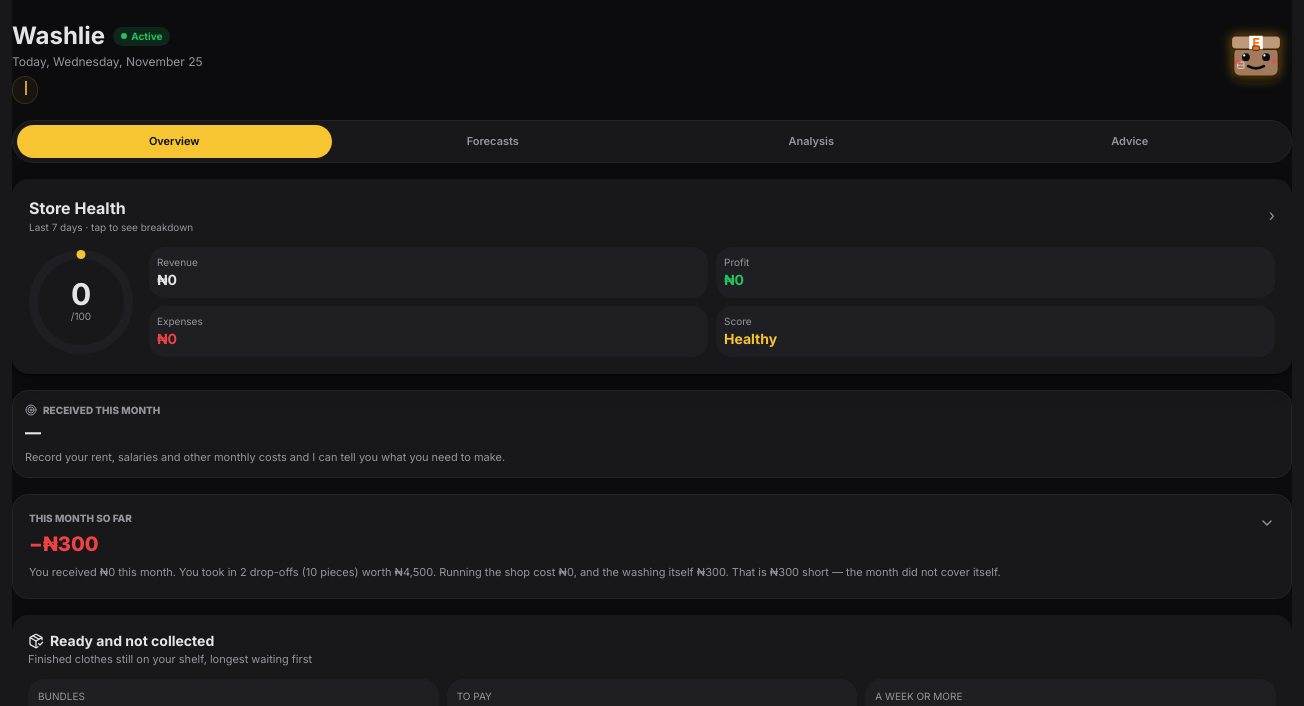
it: the Flow page › moves the bars when clothes are received, before any money, and colours what is paid
Later steps or results of the test are not shown.
Click the button "Analysis" at (811, 141), box x1=654 y1=125 x2=968 y2=158
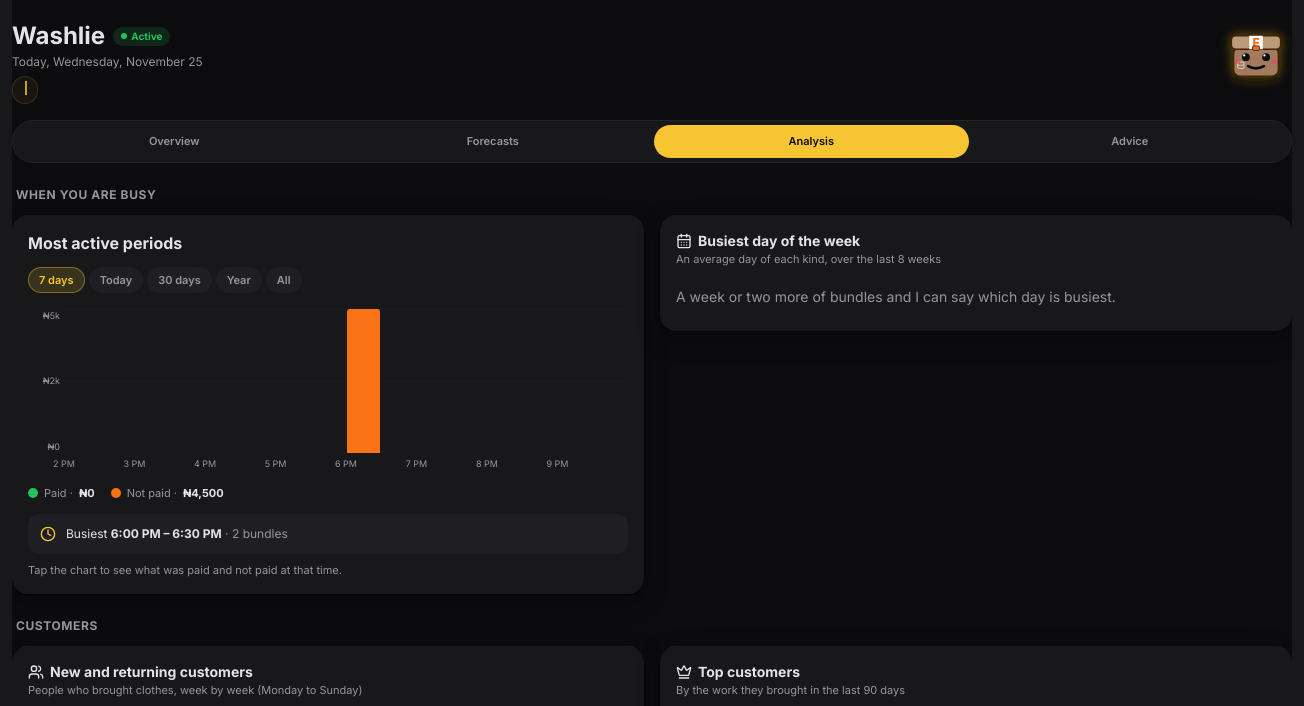
Check: the button named "2 bundles, ₦0 paid, ₦4,500 not paid" is shown, box x1=347 y1=309 x2=380 y2=453
